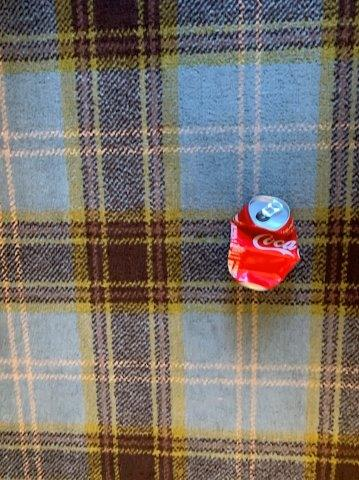kaleng: (231, 197, 299, 292)
